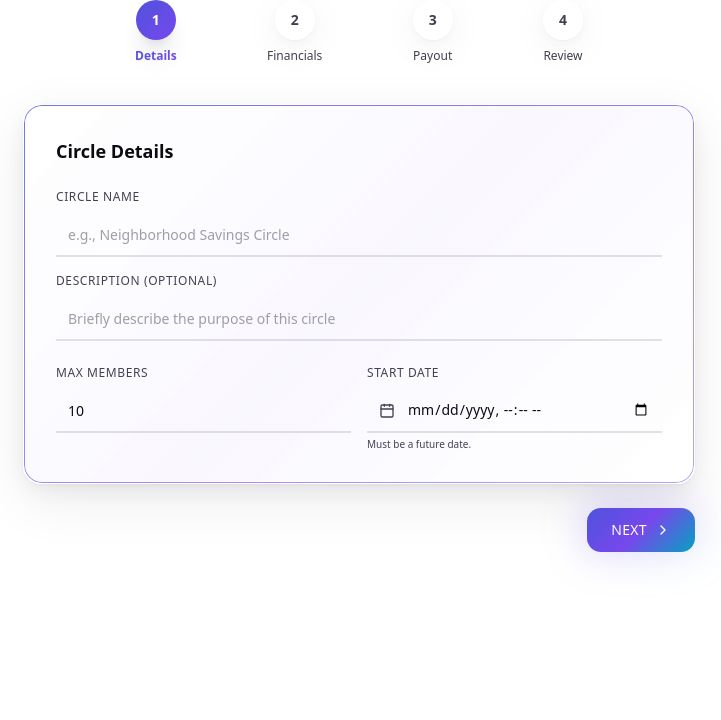
Test: CircleCreateForm — step navigation › going back from step 2 clears errors and returns to step 1
Type "Valid Circle Name" into the field with placeholder "e.g., Neighborhood Savings Circle".
click(359, 235); type("Valid Circle Name")  # box top-left (56, 213), bottom-right (662, 257)
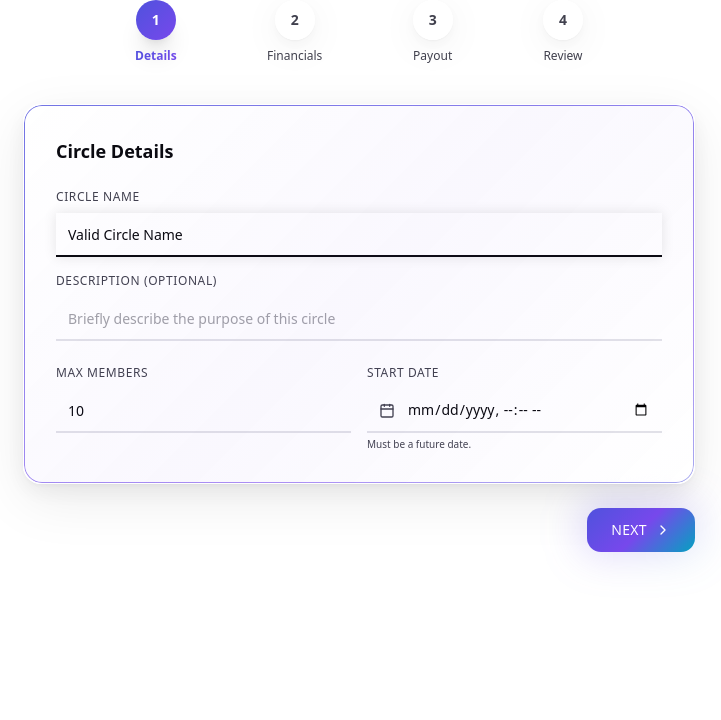
Click the button "Next".
click(641, 530)  # box top-left (587, 508), bottom-right (695, 552)
(page scrolled)
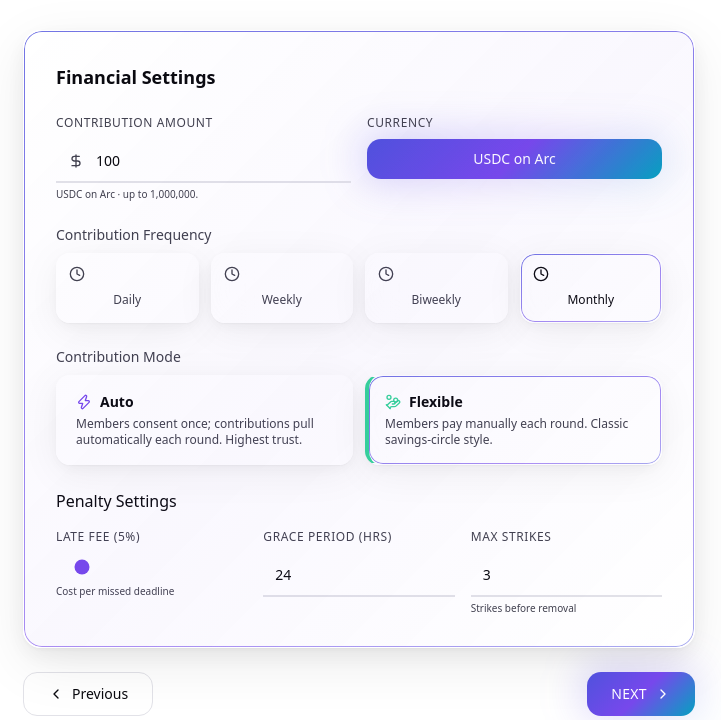
Expected: the button "Previous" is shown
Click the button "Previous".
click(88, 694)  # box top-left (23, 672), bottom-right (153, 716)
(page scrolled)
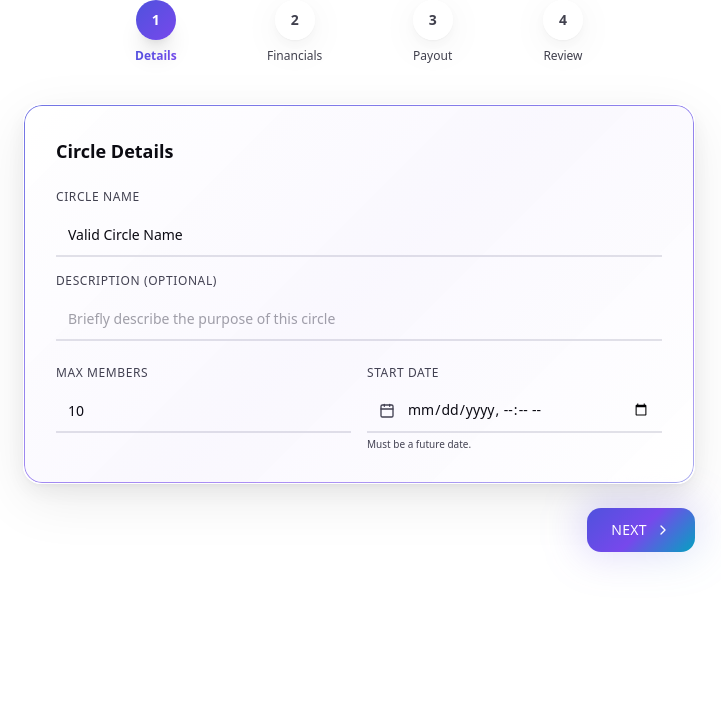
Expected: the button "Previous" is gone
